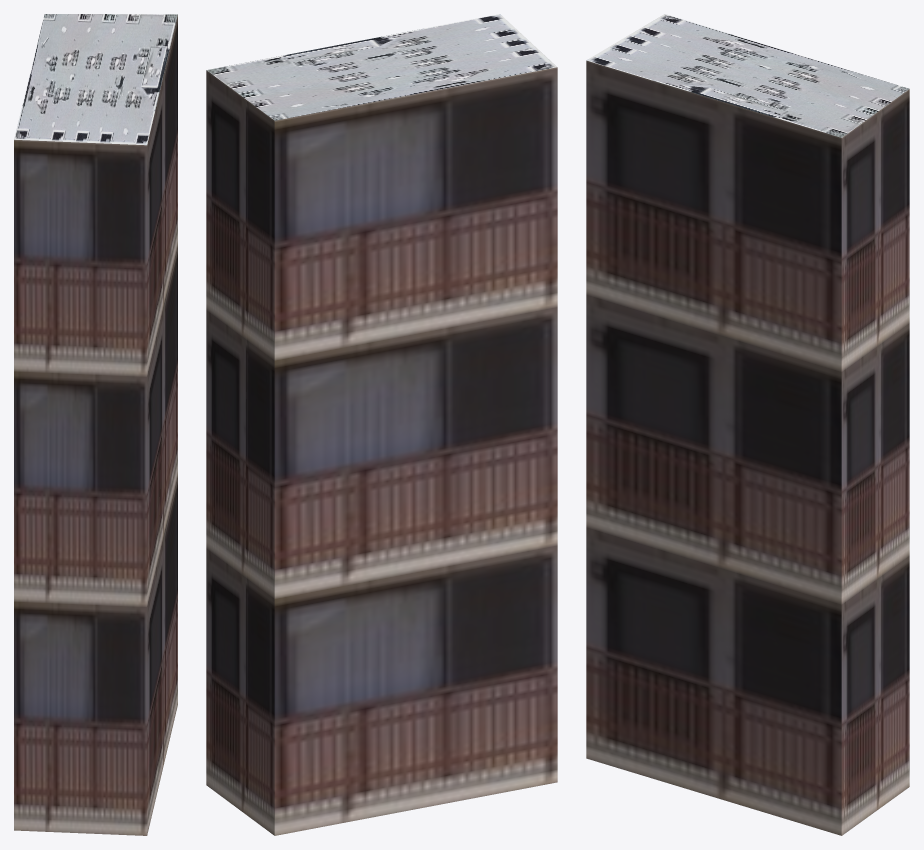
Rendered from ResTex__3345.fbx.
The picture shows the model from 3 angles, left to right: view 1: azimuth 30°, elevation 25°; view 2: azimuth 150°, elevation 25°; view 3: azimuth 270°, elevation 25°; orthographic projection. The views are drawn at different scales.
Visible parts, largest first — view 1: CityEngineMaterial_6_m, CityEngineMaterial_8_m; view 2: CityEngineMaterial_6_m, CityEngineMaterial_8_m; view 3: CityEngineMaterial_6_m, CityEngineMaterial_8_m.
Part boxes in pixels (box(x1,y1,x2,y2)): CityEngineMaterial_6_m: box(14, 15, 177, 835); CityEngineMaterial_8_m: box(14, 14, 177, 145); CityEngineMaterial_6_m: box(206, 67, 557, 835); CityEngineMaterial_8_m: box(206, 14, 556, 120); CityEngineMaterial_6_m: box(586, 60, 909, 835); CityEngineMaterial_8_m: box(586, 14, 909, 137).
Bounding box in the file's own units: 3.43 × 9 × 3.78.
2 materials, 2 textured.
